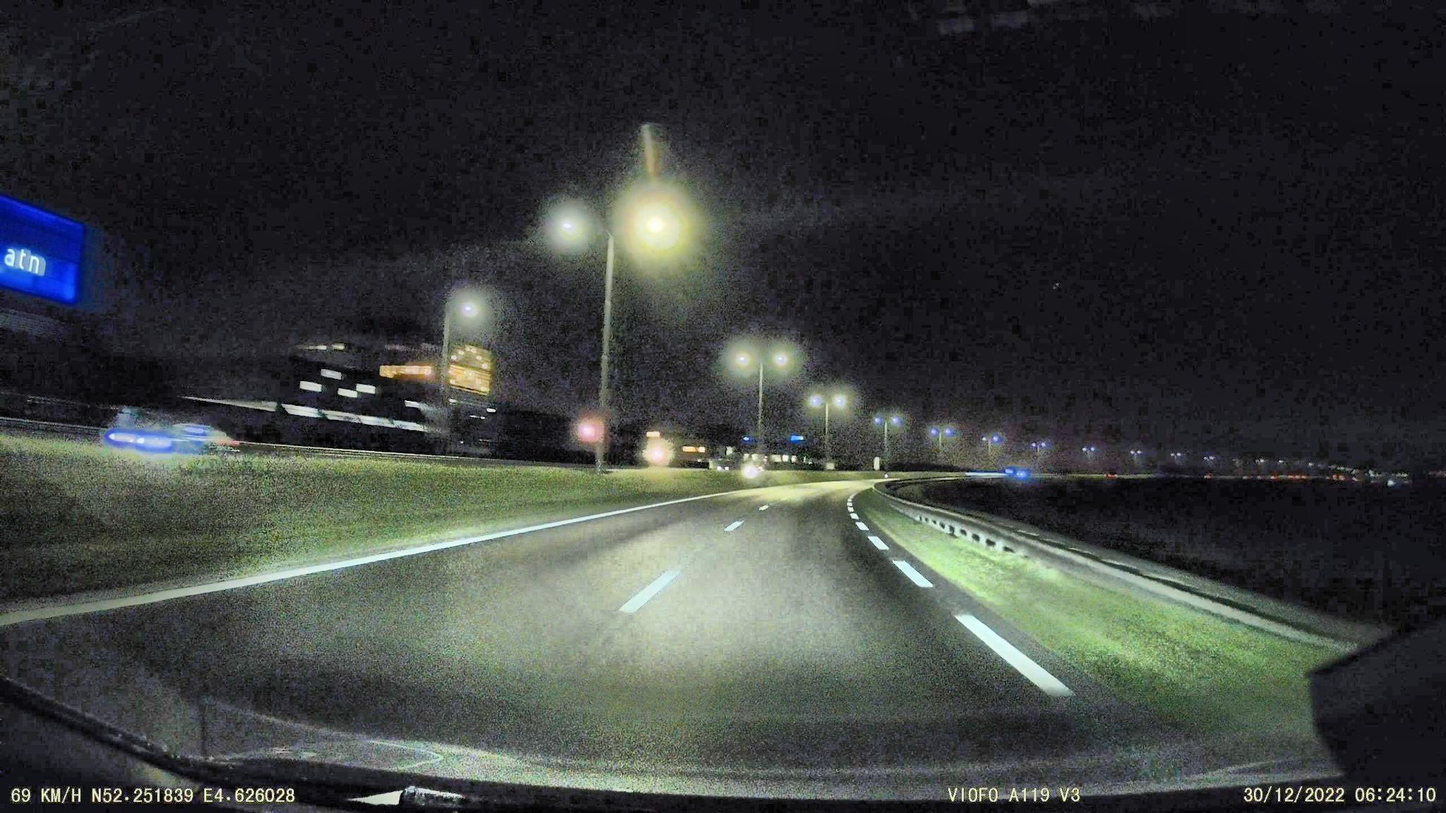Roads: (0, 481, 1086, 803)
